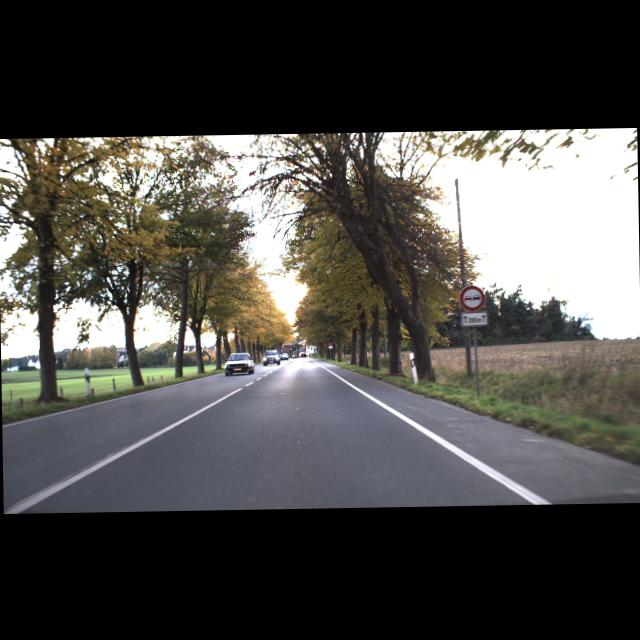prohibitory: (458, 284, 484, 310)
